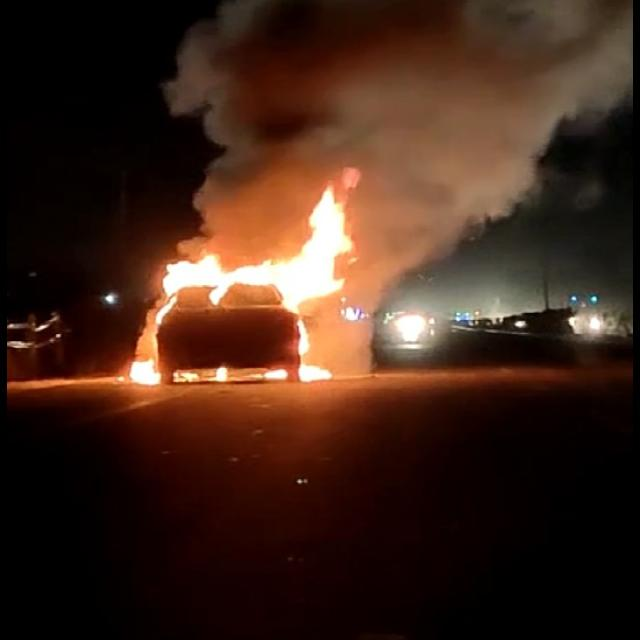fire: (281, 182, 352, 311), (162, 254, 279, 304), (299, 314, 333, 381)
